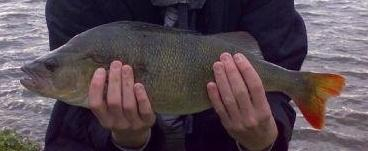Perch: (24, 22, 347, 130)
